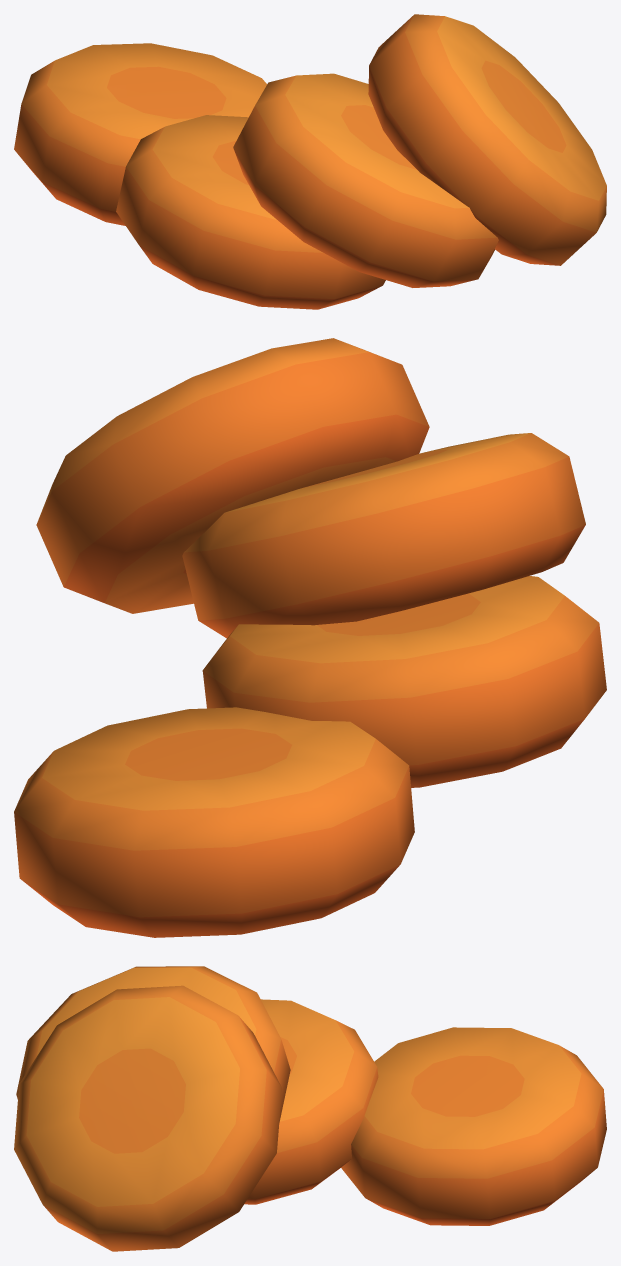
File: Cut carrots.glb
3 renders of one model, top to bottom at view 1: azimuth 30°, elevation 25°; view 2: azimuth 150°, elevation 25°; view 3: azimuth 270°, elevation 25°, orthographic. The views are drawn at different scales.
Visible parts, largest first — view 1: food_ingredient_carrot_pieces; view 2: food_ingredient_carrot_pieces; view 3: food_ingredient_carrot_pieces.
Part boxes in pixels (x1,y1,x2,y2): food_ingredient_carrot_pieces: (14,14,606,309); food_ingredient_carrot_pieces: (14,338,606,937); food_ingredient_carrot_pieces: (14,966,606,1251).
Bounding box in the file's own units: 0.543 × 0.3226 × 0.7191.
Materials: 1 (1 with a texture image).
